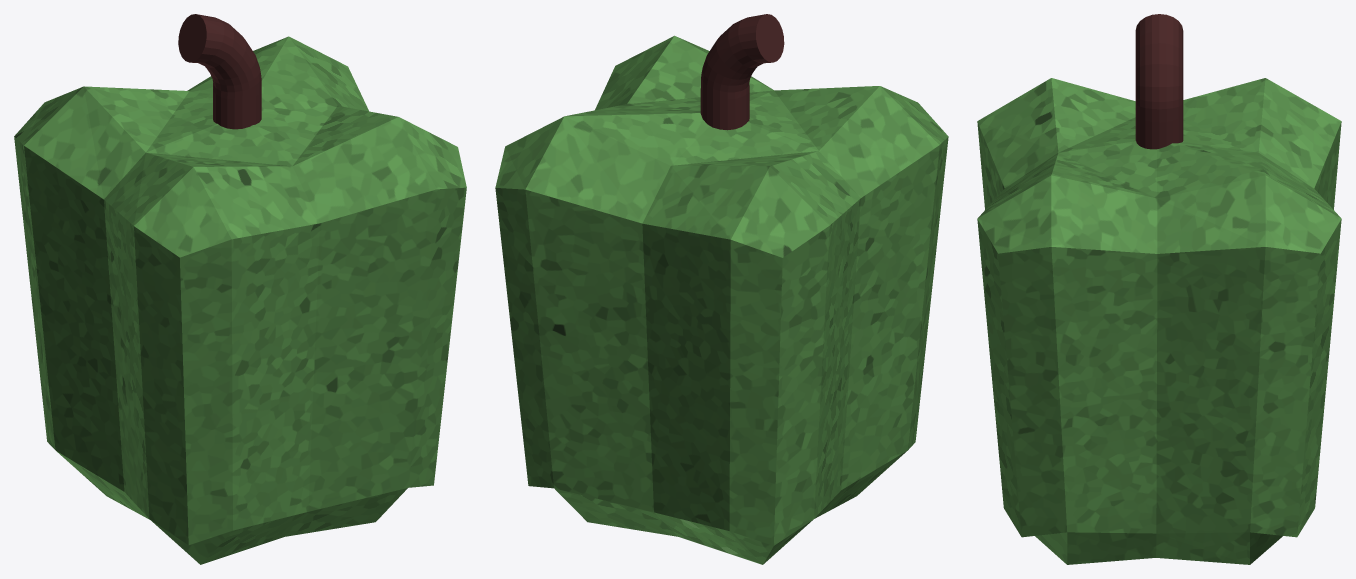
The model's file is greenpepper.fbx.
3 renders of one model, left to right at view 1: azimuth 30°, elevation 25°; view 2: azimuth 150°, elevation 25°; view 3: azimuth 270°, elevation 25°, orthographic. The views are drawn at different scales.
Parts seen in each view (by area): view 1: pCube2; view 2: pCube2; view 3: pCube2.
Boxes of the visible parts, bbox=[...] form: pCube2: bbox=[14, 14, 466, 564]; pCube2: bbox=[495, 14, 948, 564]; pCube2: bbox=[977, 14, 1341, 564].
Bounding box in the file's own units: 1.87 × 2.78 × 1.87.
2 materials, 1 textured.
